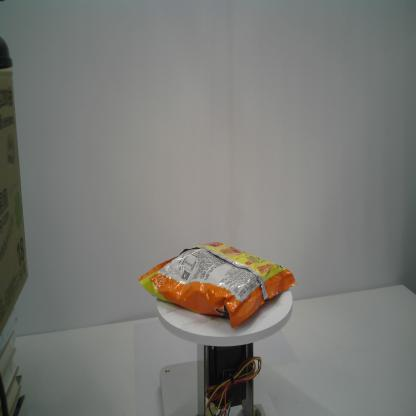Instant Noodles: (138, 241, 298, 330)
